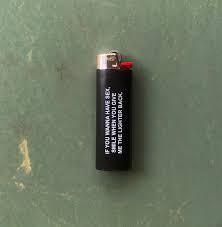lighter: (98, 51, 134, 171)
